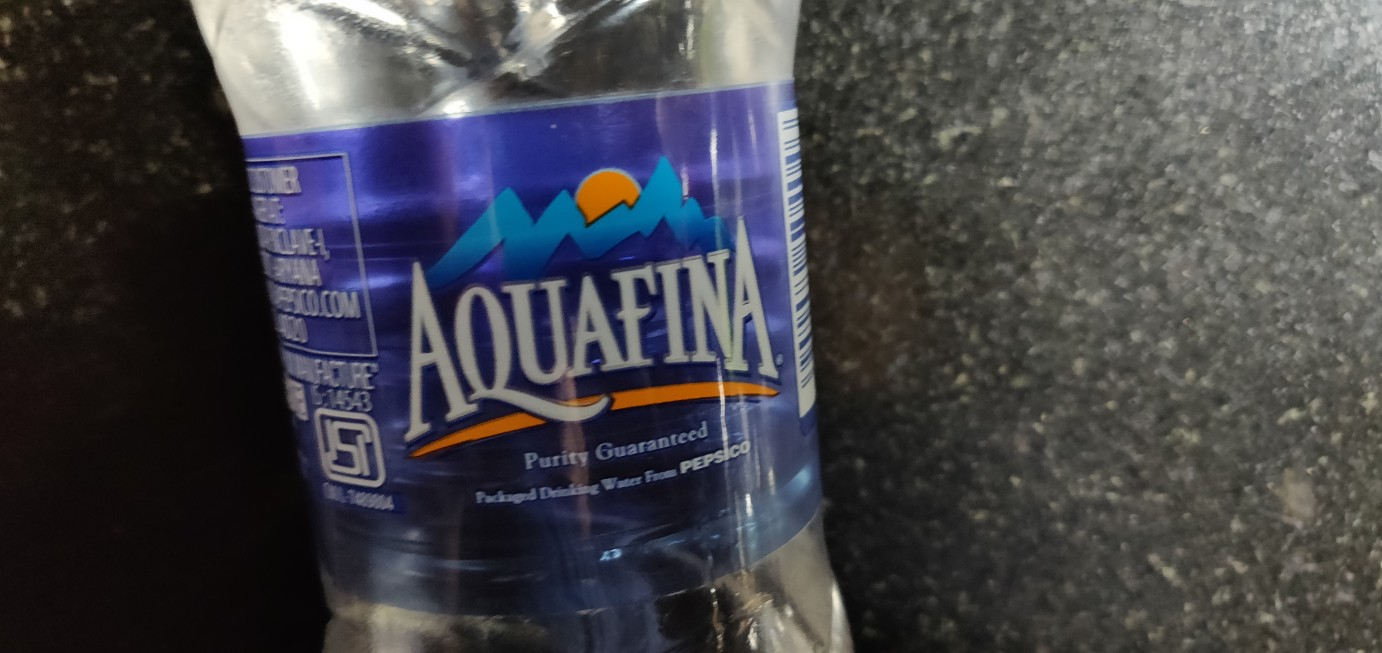Electronics: (169, 1, 863, 653)
